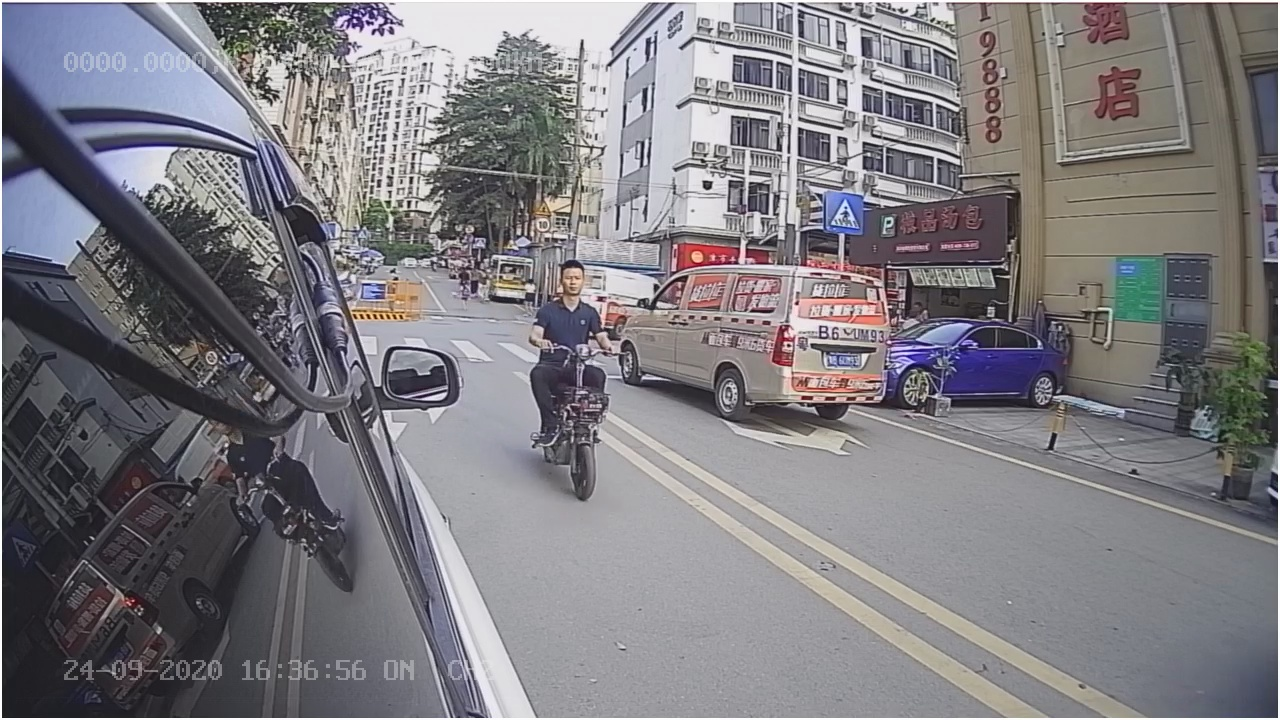person: (515, 251, 636, 510)
